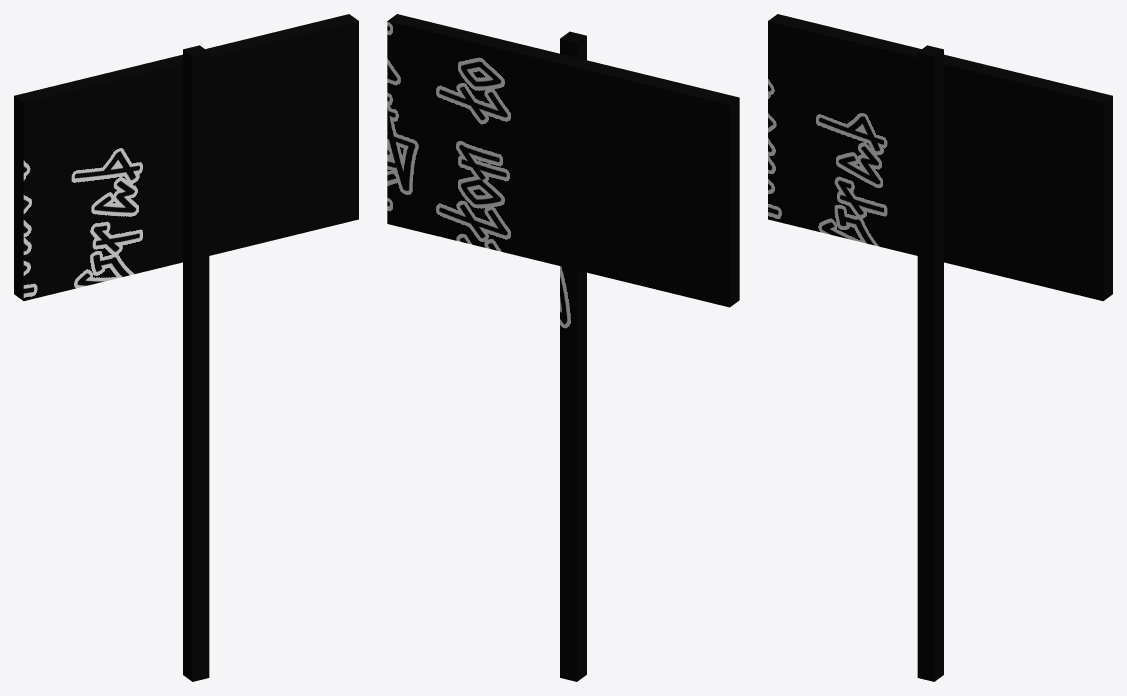
File: sign_standing.fbx
The picture shows the model from 3 angles, left to right: view 1: azimuth 30°, elevation 25°; view 2: azimuth 150°, elevation 25°; view 3: azimuth 330°, elevation 25°; orthographic projection. The views are drawn at different scales.
Parts seen in each view (by area): view 1: Cube; view 2: Cube; view 3: Cube.
Part boxes in pixels (<box>): Cube: <box>14,14,358,681</box>; Cube: <box>387,14,739,681</box>; Cube: <box>768,14,1112,681</box>.
Size of the model in its own units: 36.58 by 65.2 by 3.66.
